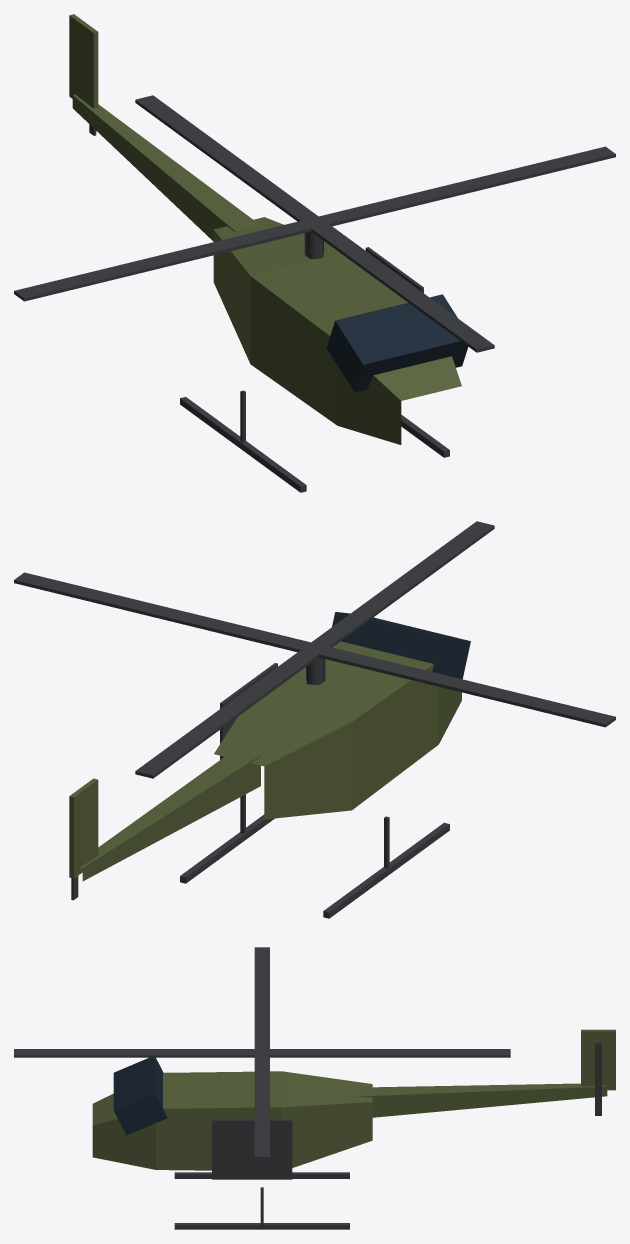
Rendered from veh_air_heli_transport_a06_lod2.glb.
3 renders of one model, top to bottom at view 1: azimuth 30°, elevation 25°; view 2: azimuth 150°, elevation 25°; view 3: azimuth 270°, elevation 25°, orthographic. The views are drawn at different scales.
Parts seen in each view (by area): view 1: body, rotor; view 2: body, rotor, door; view 3: body, rotor, door, tail_rotor.
Boxes of the visible parts, x1,y1,x2,y2 form: body: [69, 14, 468, 492]; rotor: [14, 95, 615, 352]; body: [69, 612, 470, 918]; rotor: [14, 521, 615, 778]; door: [220, 663, 277, 759]; body: [92, 1029, 615, 1229]; rotor: [14, 947, 510, 1159]; door: [212, 1119, 292, 1179]; tail_rotor: [595, 1042, 601, 1115].
Bounding box in the file's own units: 9.9 × 3.8 × 12.
